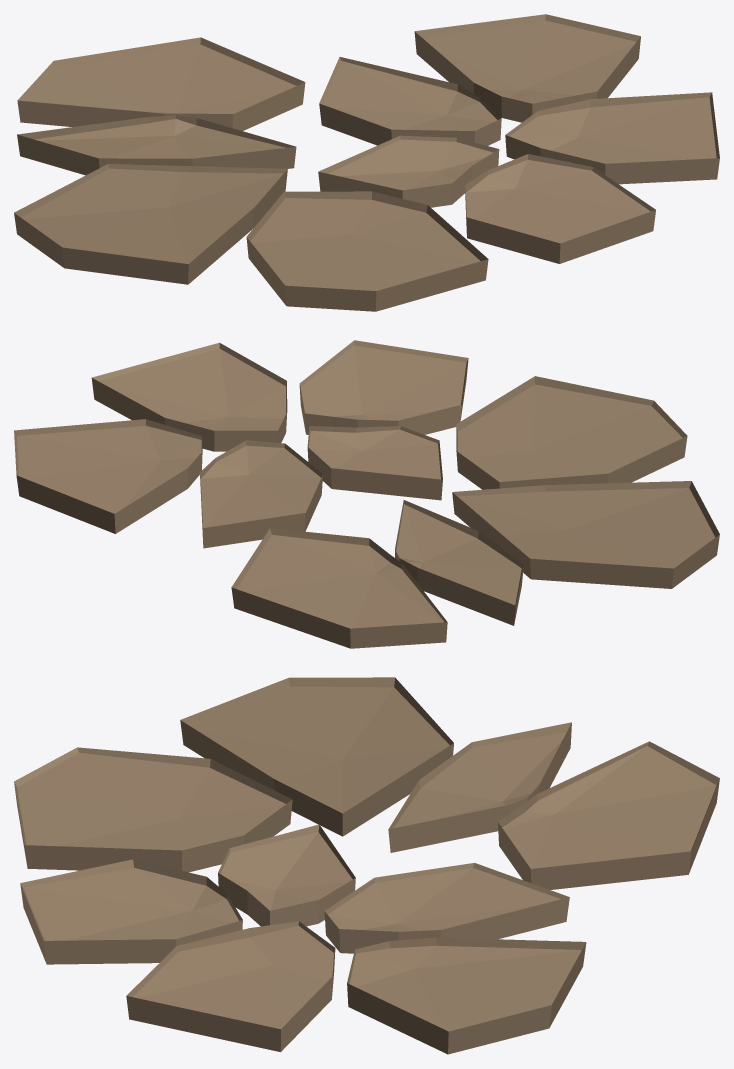
File: mud-plates.glb
3 views of the same model, one above another, from view 1: azimuth 30°, elevation 25°; view 2: azimuth 150°, elevation 25°; view 3: azimuth 270°, elevation 25° (orthographic). The views are drawn at different scales.
Parts seen in each view (by area): view 1: mud-plates; view 2: mud-plates; view 3: mud-plates.
Part boxes in pixels (x1,y1,x2,y2): mud-plates: (14, 14, 719, 311); mud-plates: (14, 340, 719, 648); mud-plates: (14, 677, 719, 1054).
Size of the model in its own units: 4.35 by 0.14 by 3.67.
